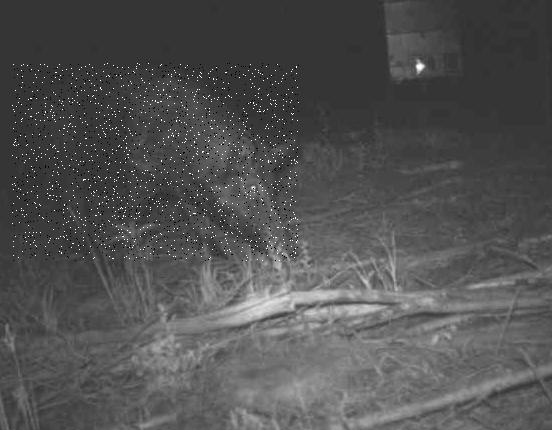Hog: (11, 63, 298, 261)
